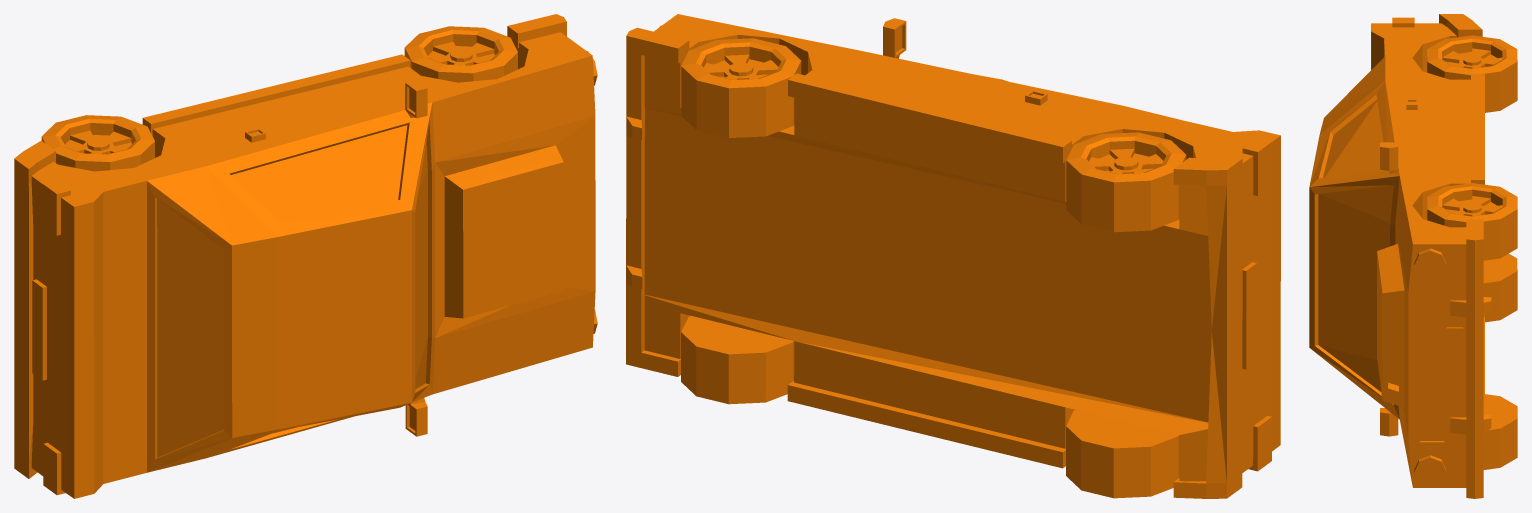
The model's file is orange_car.glb.
The picture shows the model from 3 angles, left to right: view 1: azimuth 30°, elevation 25°; view 2: azimuth 150°, elevation 25°; view 3: azimuth 270°, elevation 25°; orthographic projection. The views are drawn at different scales.
Parts seen in each view (by area): view 1: Car_07_Cube.041; view 2: Car_07_Cube.041; view 3: Car_07_Cube.041.
Boxes of the visible parts, x1,y1,x2,y2 form: Car_07_Cube.041: (14, 14, 597, 498); Car_07_Cube.041: (626, 14, 1280, 498); Car_07_Cube.041: (1309, 14, 1517, 498).
Bounding box in the file's own units: 0.9023 × 0.5352 × 0.3503.
